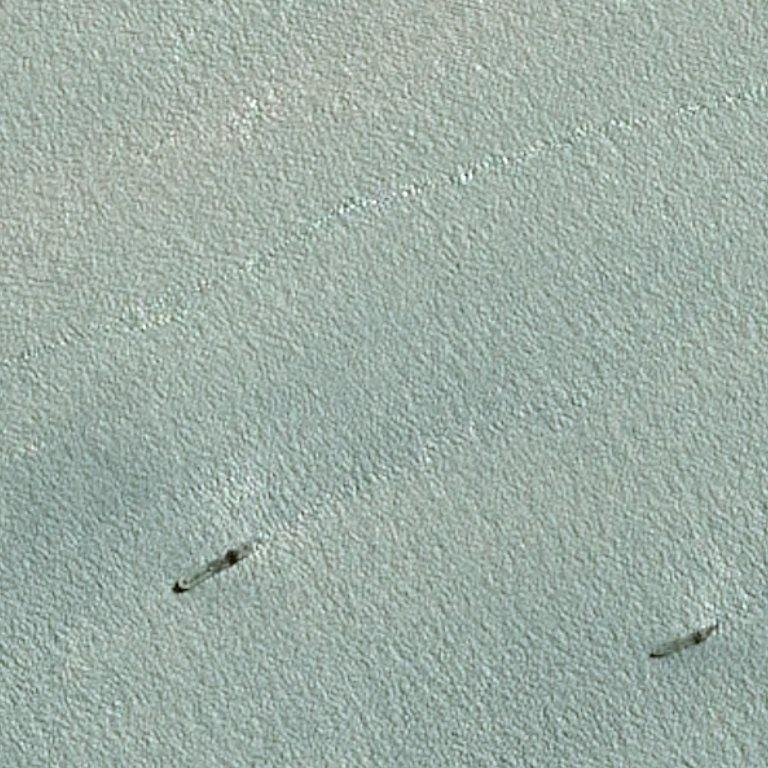ship: (650, 626, 713, 659), (214, 538, 222, 593), (253, 549, 256, 553), (177, 586, 181, 588), (654, 653, 657, 655), (13, 544, 17, 545), (703, 630, 704, 631), (691, 621, 693, 621)
